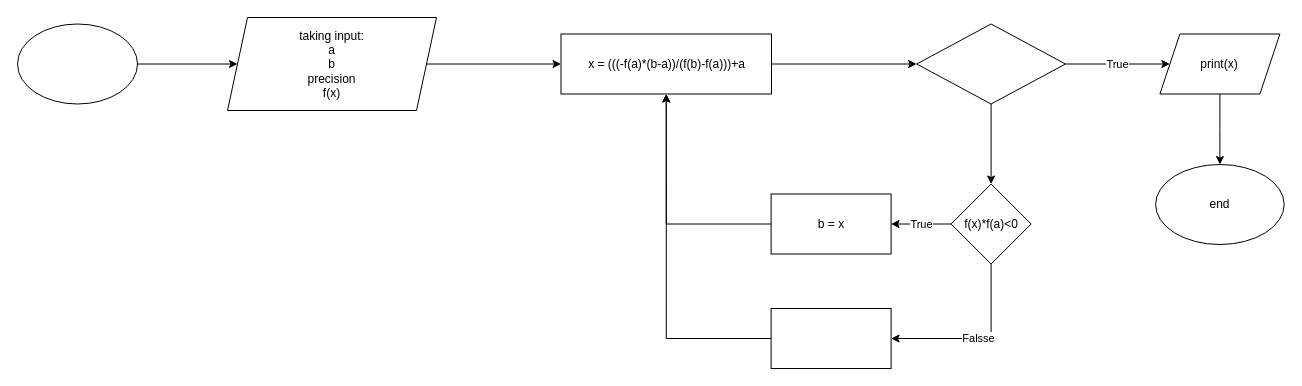
This 1302x386 diagram has some shape labels left out. The shapes that lost their labels are listed below. From the top down, each one's box as (x1, y1, x2, y2) in pixels, then its label:
(16, 23, 138, 104): start
(916, 23, 1066, 104): |f(x)|<=precision
(770, 308, 891, 368): a = x
